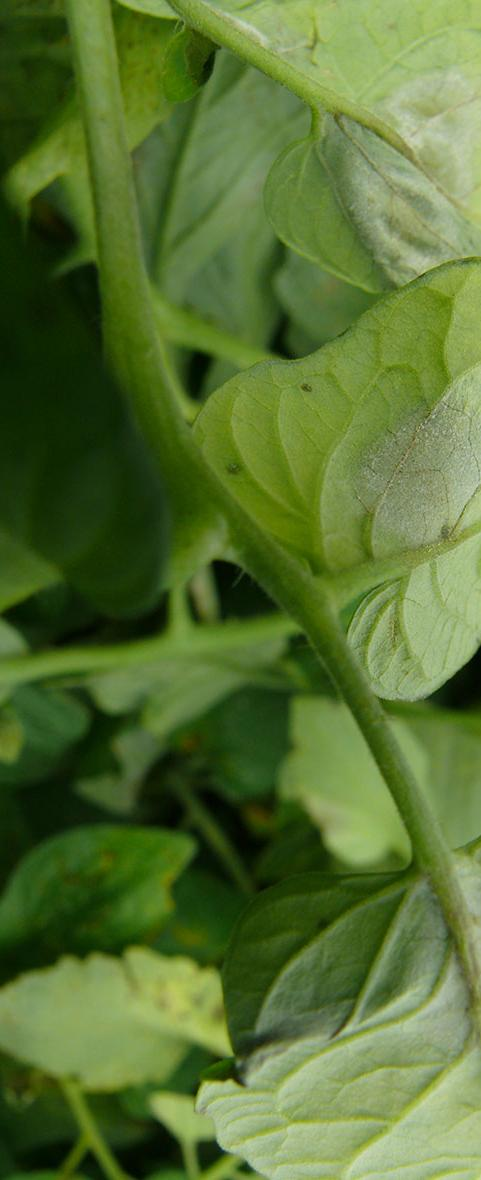Tomato leaf late blight: (187, 276, 481, 712), (174, 830, 481, 1180), (204, 8, 481, 375)
